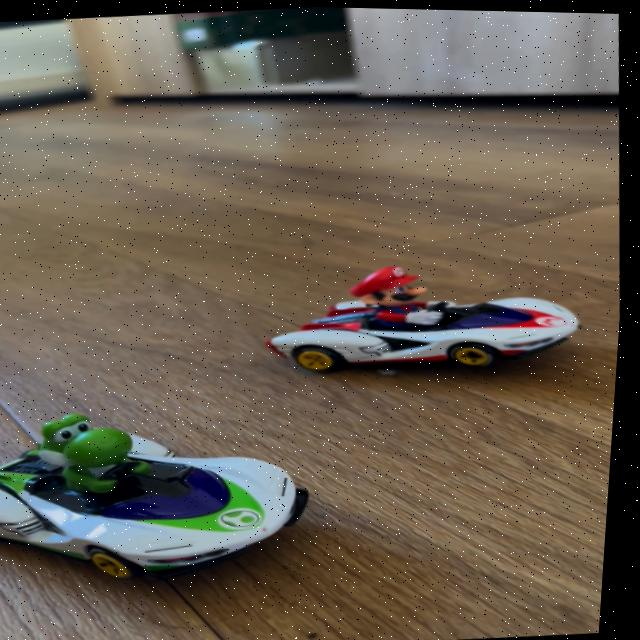mario: (257, 244, 605, 386)
yoshi: (0, 385, 334, 599)
